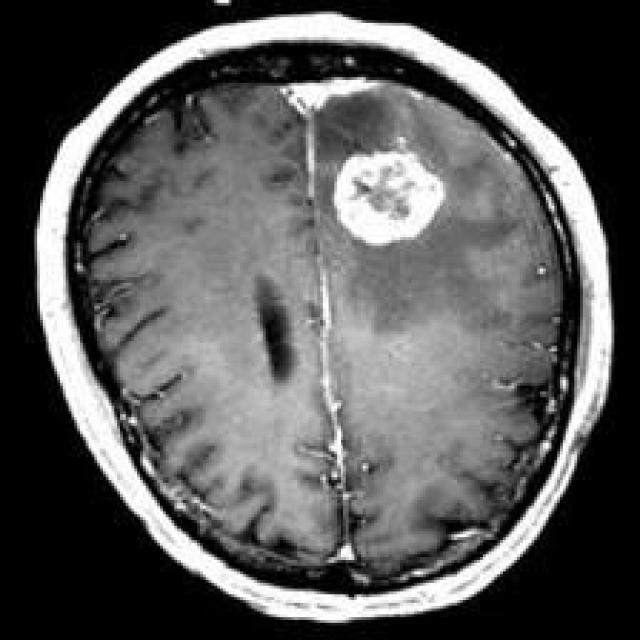Tumor: (337, 151, 449, 249)
